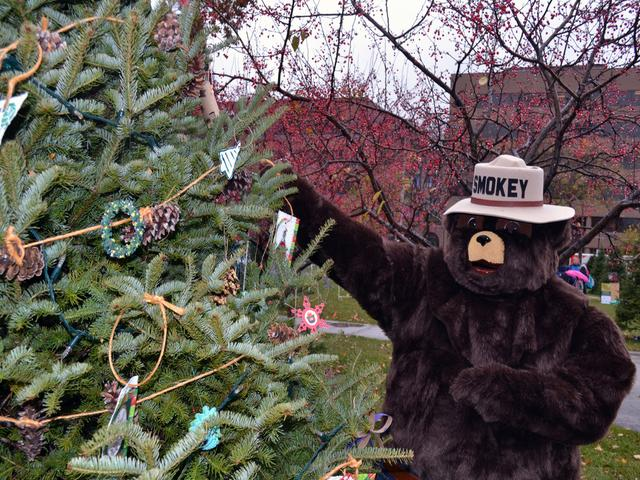bear: (225, 135, 635, 480)
